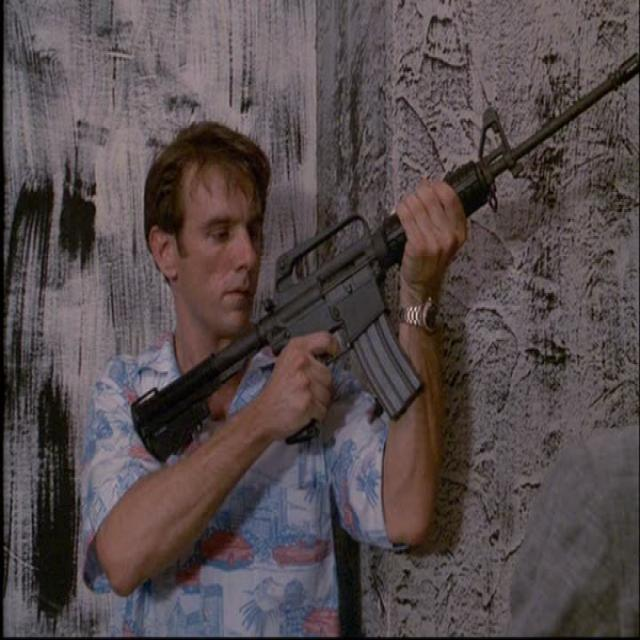rifle: (133, 49, 640, 463)
